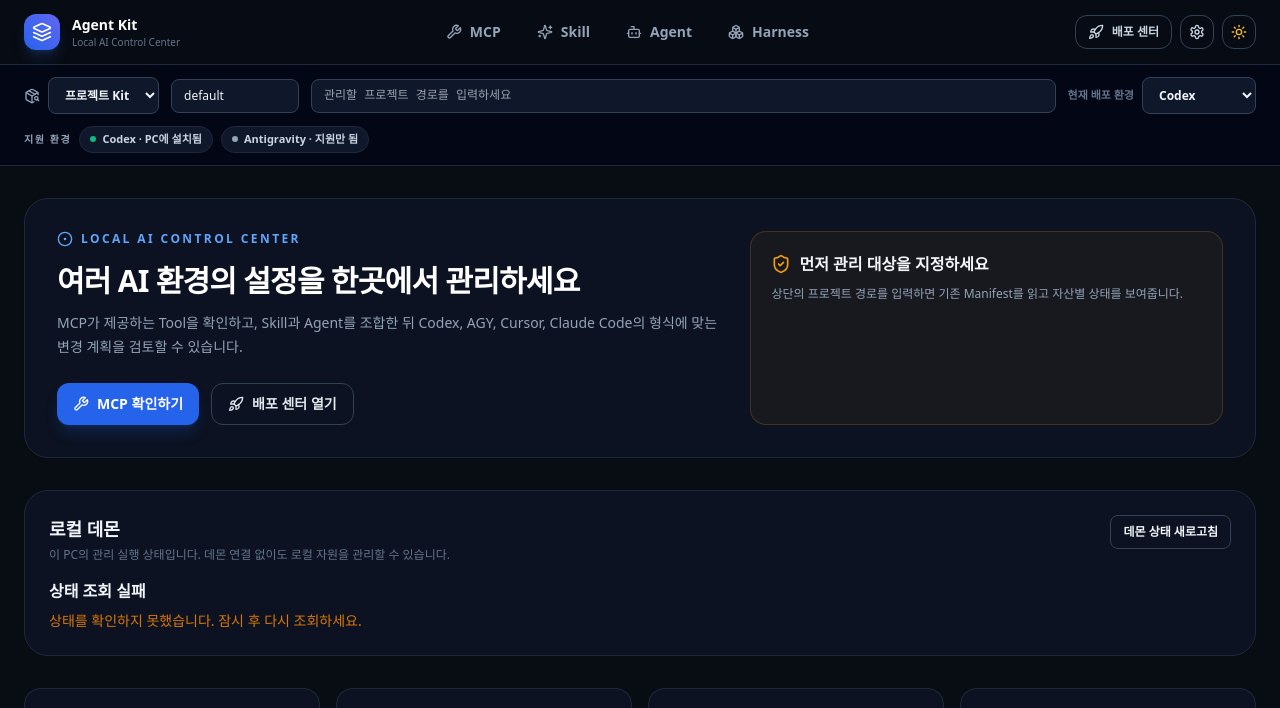
Test: Agent Kit control center shell › uses semantic MCP, Skill, Agent, and Harness navigation
Click the tab "Skill": (563, 32) [521,14,606,50]
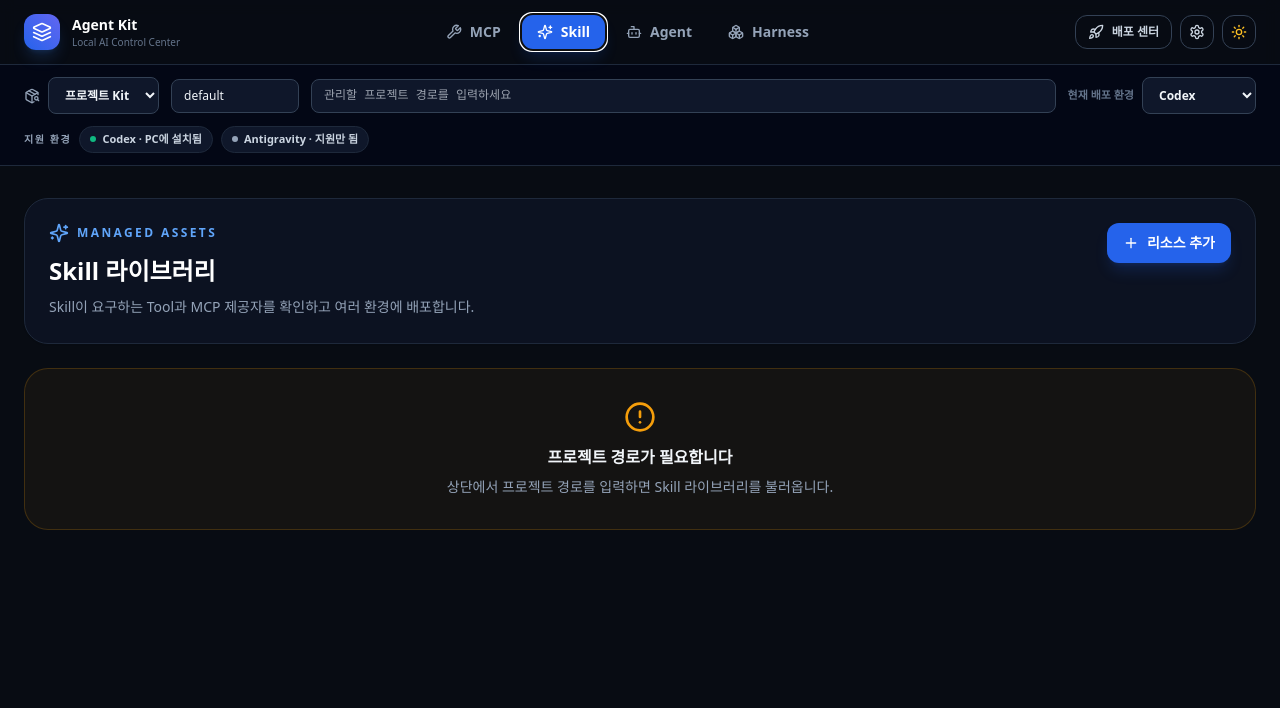
Expected: the heading "Skill 라이브러리" is shown, [49,254,216,286]
